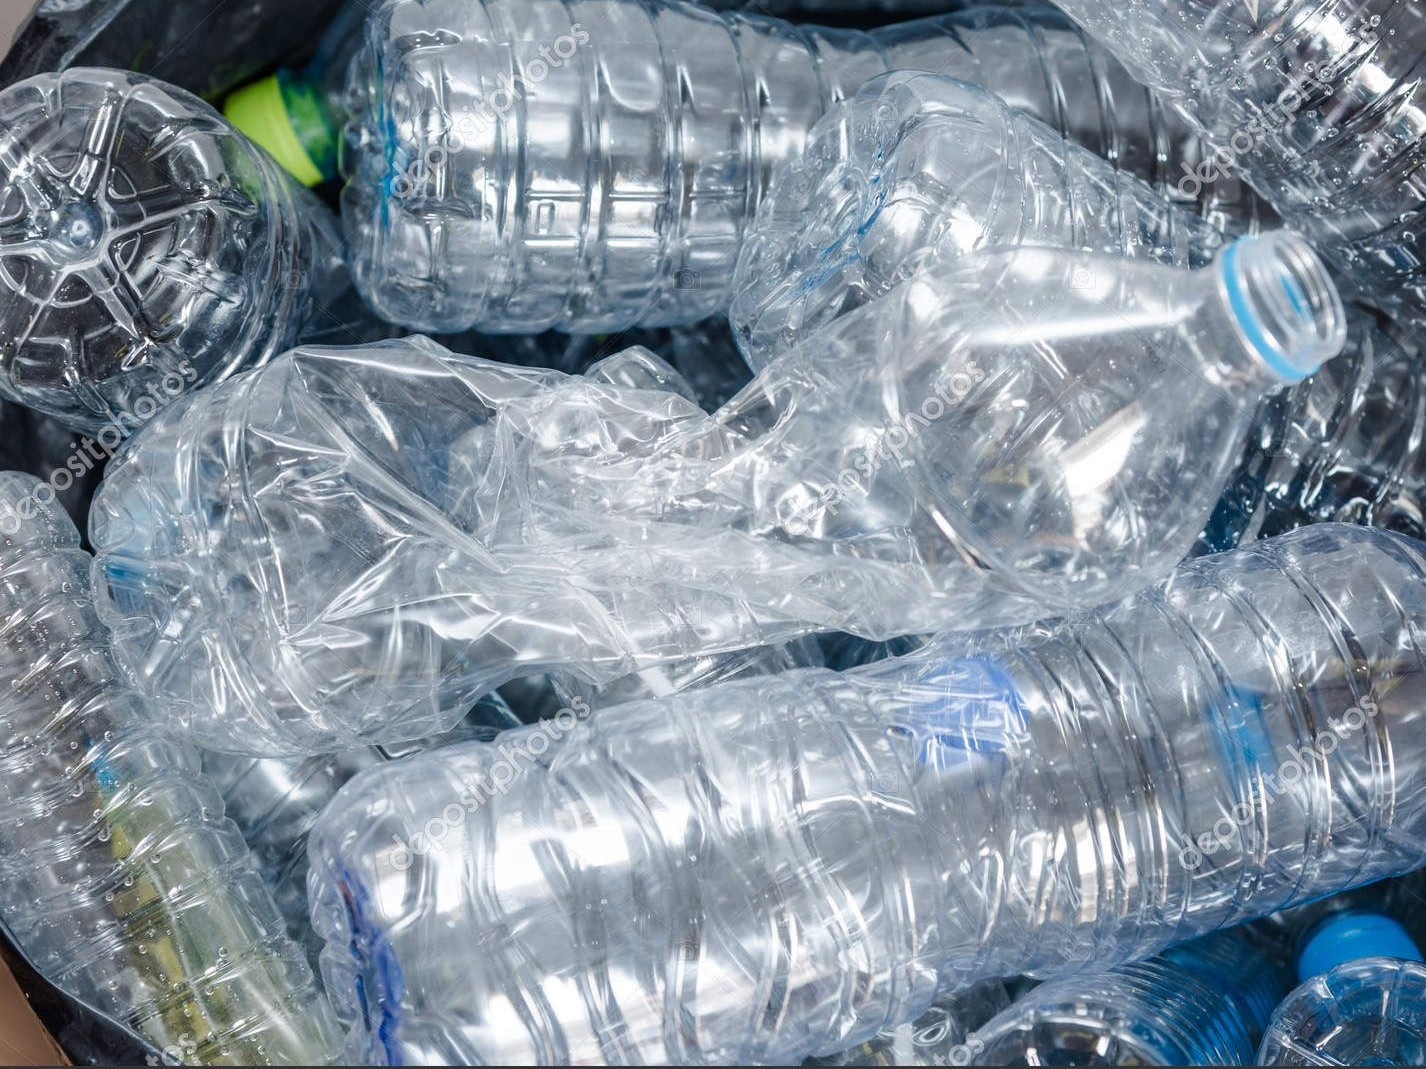garbage: (1, 13, 1425, 1066)
